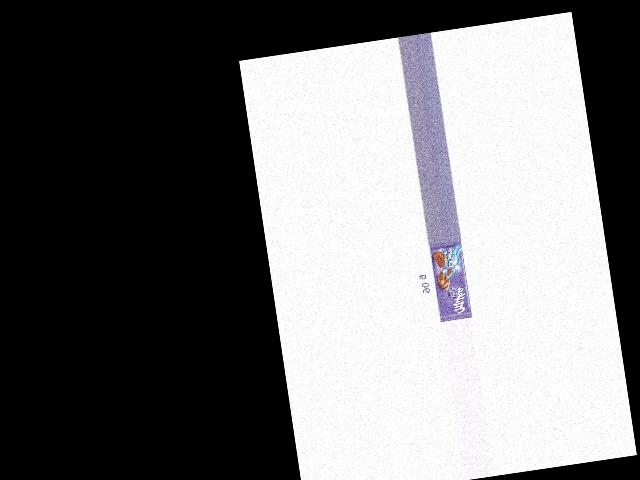chocolate: (429, 239, 472, 320)
